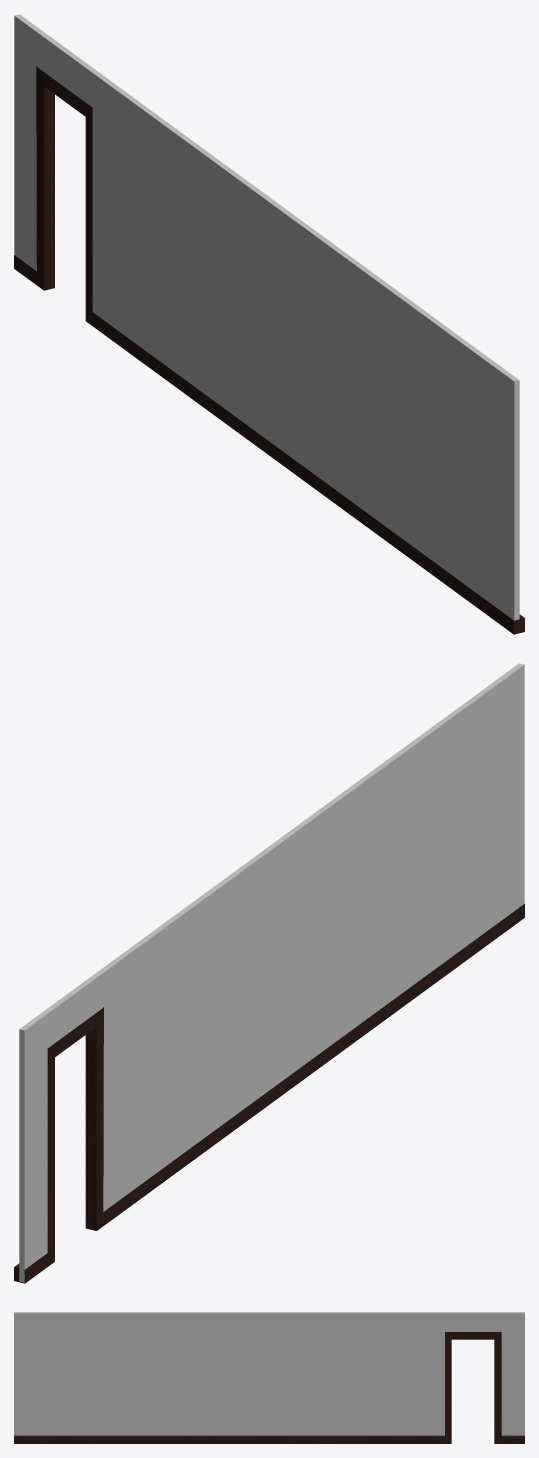
Rendered from SideDoorWall.fbx.
3 views of the same model, one above another, from view 1: azimuth 30°, elevation 25°; view 2: azimuth 150°, elevation 25°; view 3: azimuth 270°, elevation 25° (orthographic). The views are drawn at different scales.
Visible parts, largest first — view 1: wall01, polySurface2; view 2: wall01, polySurface2; view 3: wall01, polySurface2.
Part boxes in pixels (box(x1,y1,x2,y2)): wall01: box(14, 14, 519, 620); polySurface2: box(14, 66, 524, 634); wall01: box(19, 663, 524, 1282); polySurface2: box(14, 903, 524, 1283); wall01: box(14, 1312, 524, 1435); polySurface2: box(14, 1332, 524, 1443).
Size of the model in its own units: 0.4008 by 8.37 by 29.98.
